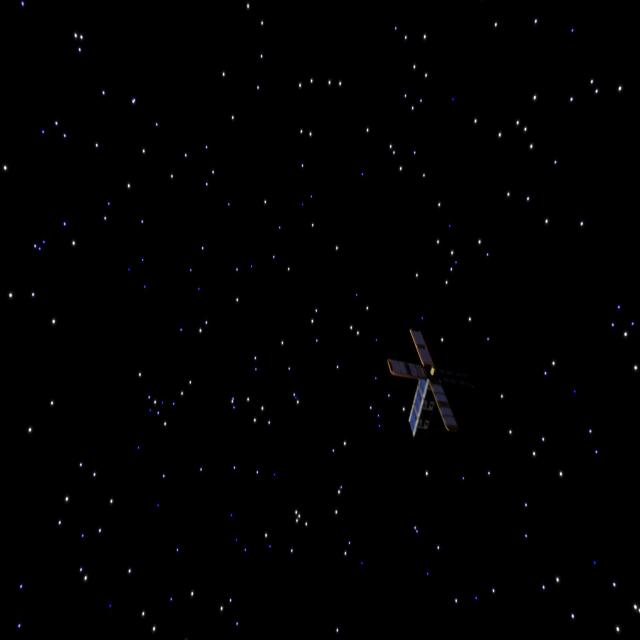medium_debris: (378, 324, 463, 444)
